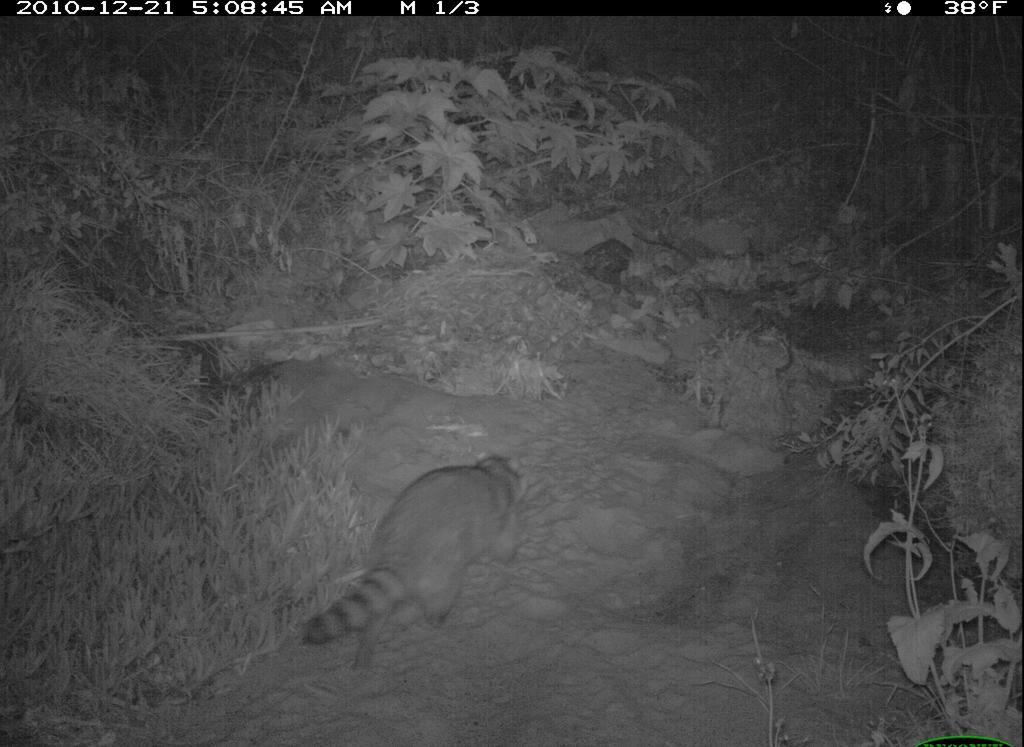raccoon: (296, 436, 537, 658)
